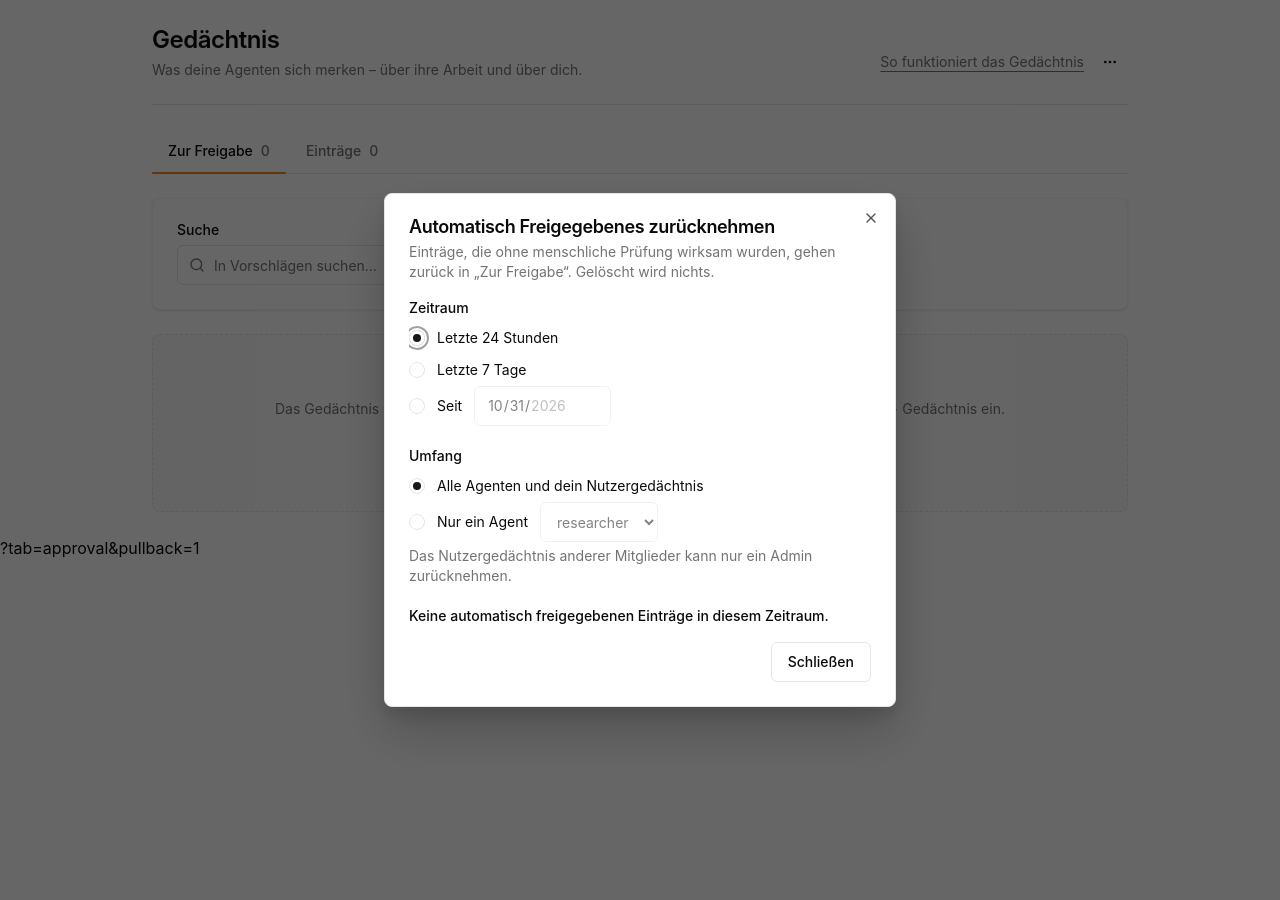
Test case: PullBackDialog (C5c-2, Spec §8) › bei 0 Treffern heißt der Primärknopf „Schließen“ und führt nichts aus
The image size is (1280, 900).
Expected: the text "Keine automatisch freigegebenen Einträge in diesem Zeitraum." is shown, [409,606,871,626]
Click the button with test id "pullback-close" at (821, 662), box [771,642,871,682]
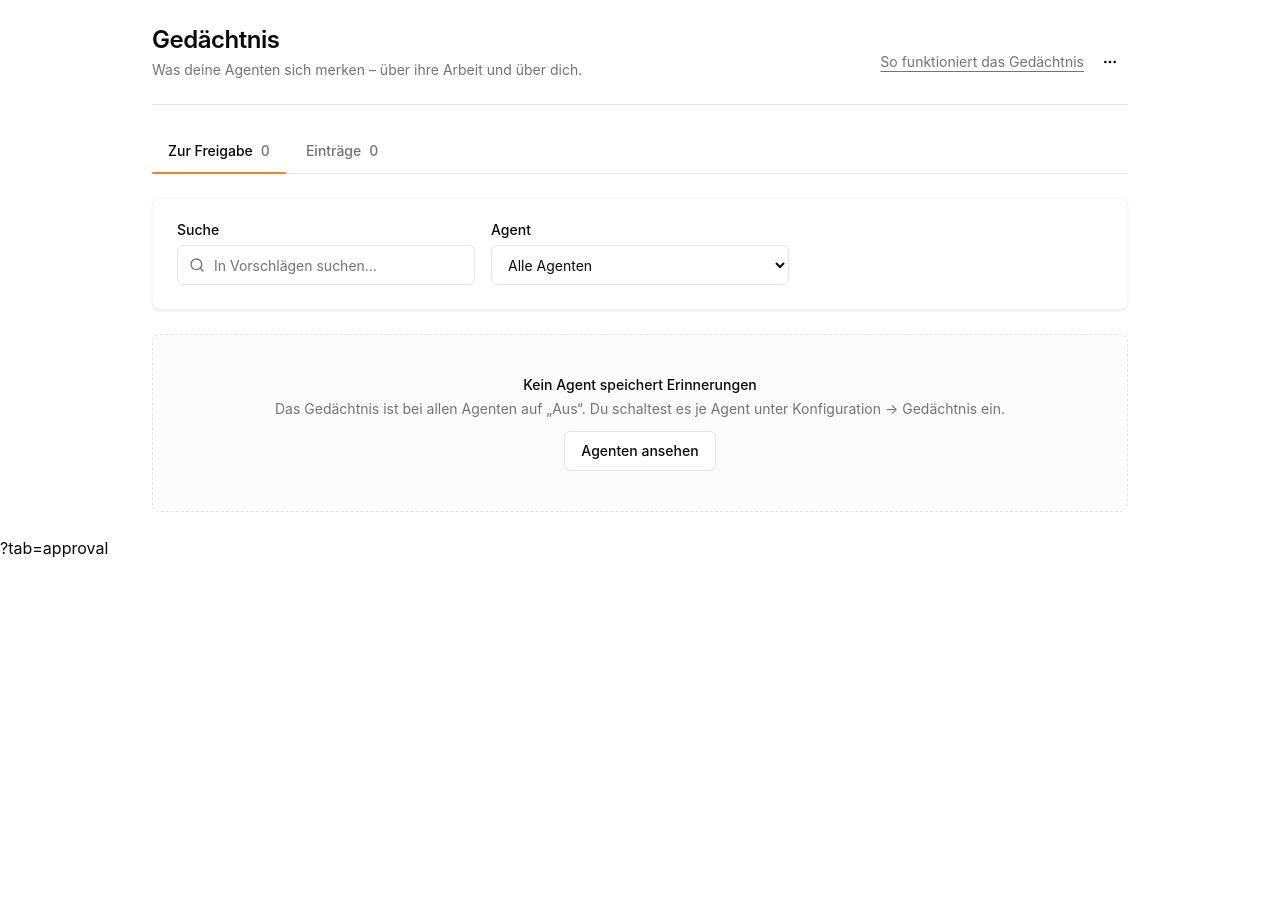
Expected: the dialog is gone
